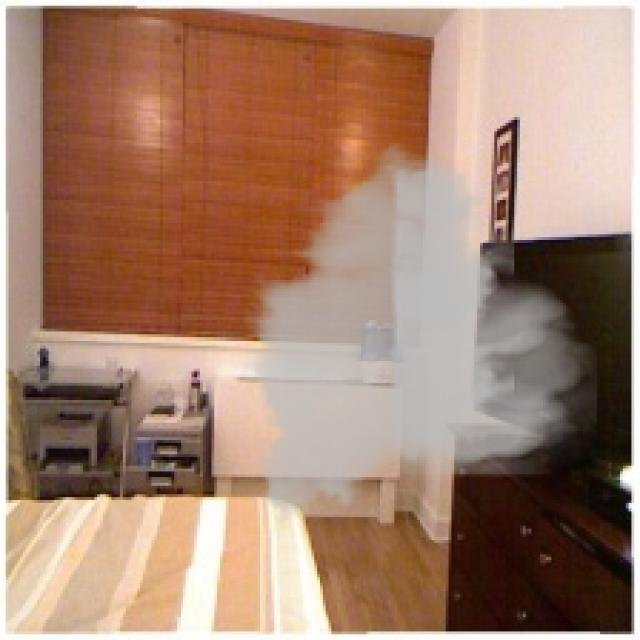smoke: (237, 132, 597, 537)
